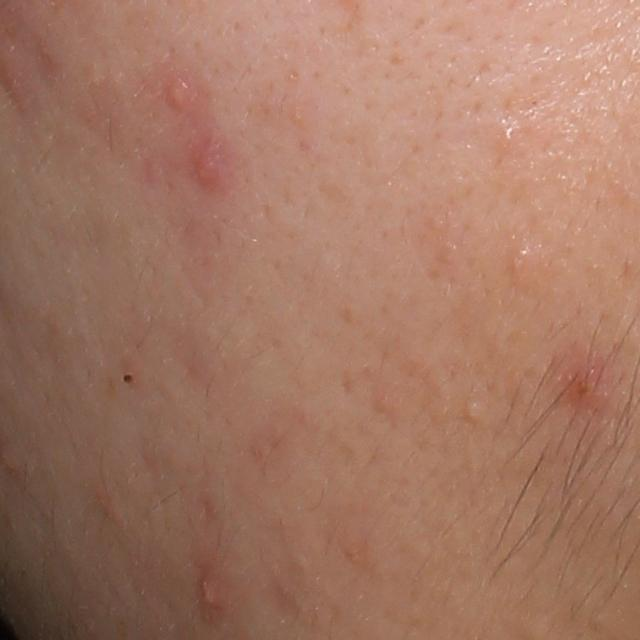comedo: (458, 398, 491, 426), (497, 120, 516, 150), (115, 369, 137, 394)
papule: (559, 355, 609, 415), (185, 147, 232, 198), (194, 569, 227, 620), (158, 78, 195, 120)
